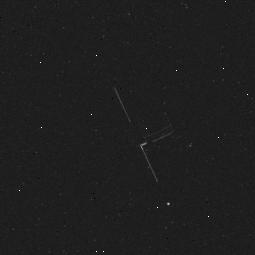soho: (110, 91, 181, 194)
